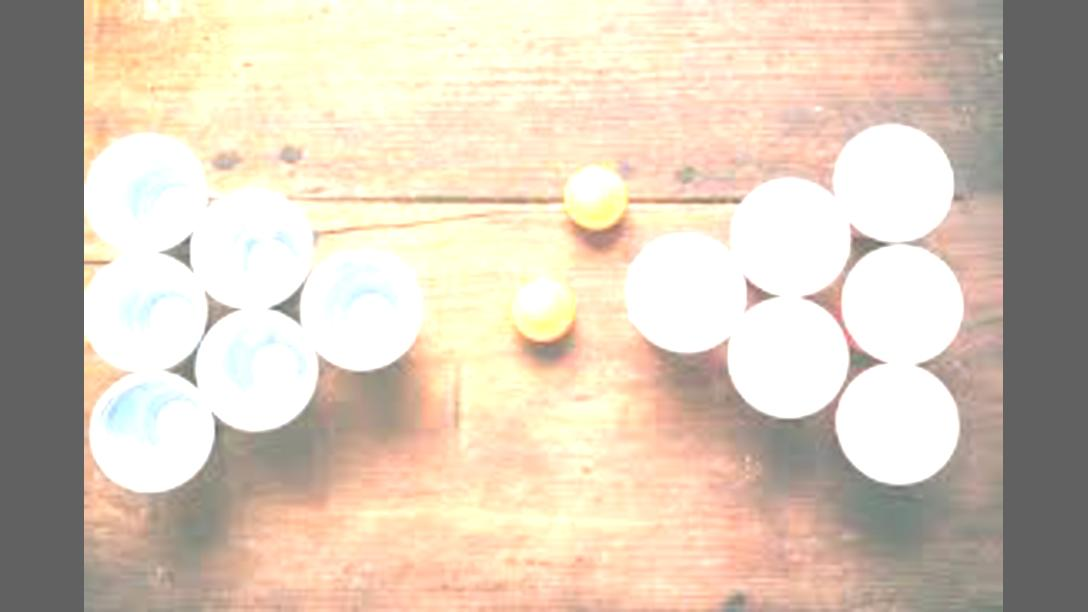Table-Tennis-Ball: (515, 278, 576, 340), (568, 167, 626, 225)
